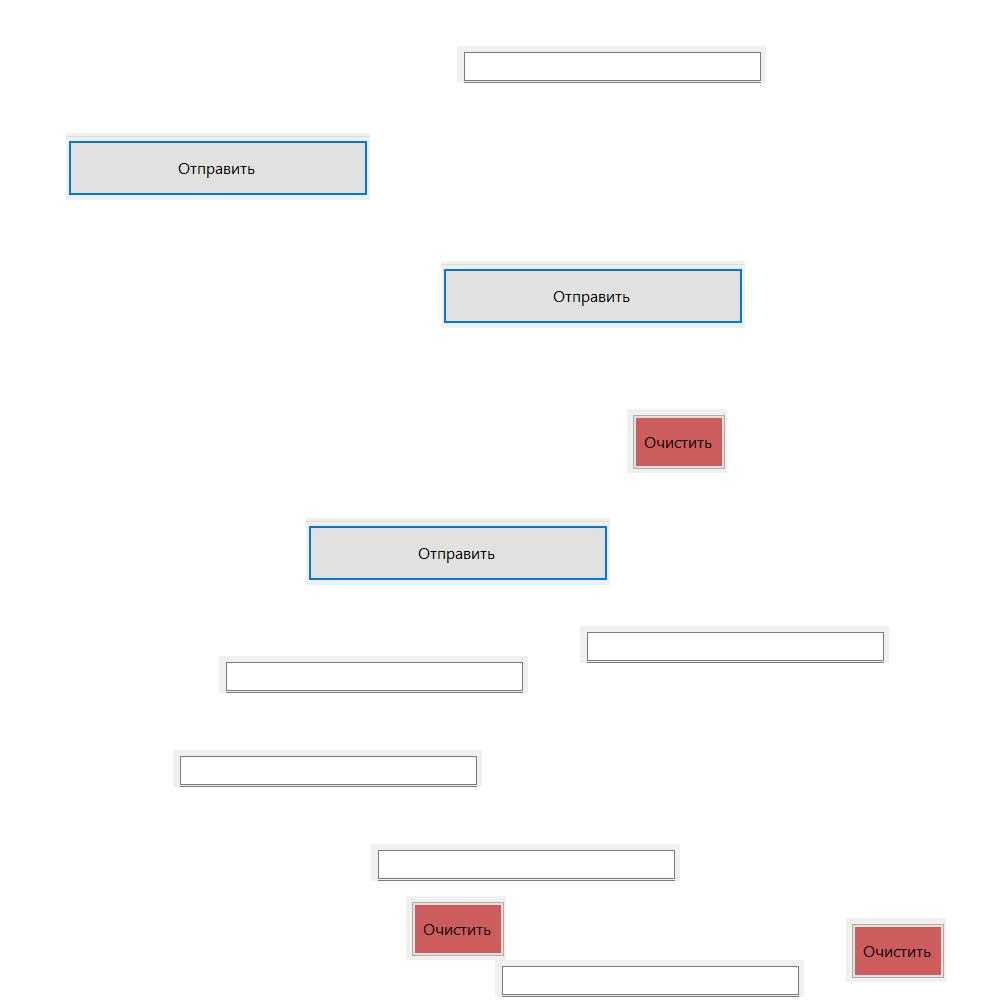Button: (441, 261, 745, 328), (66, 133, 370, 200), (306, 518, 610, 585), (627, 409, 727, 473), (846, 918, 946, 982), (406, 896, 506, 960)
EditText-: (580, 626, 889, 663), (173, 750, 482, 787), (495, 960, 804, 997), (219, 656, 528, 693), (371, 844, 680, 881), (457, 46, 766, 83)
